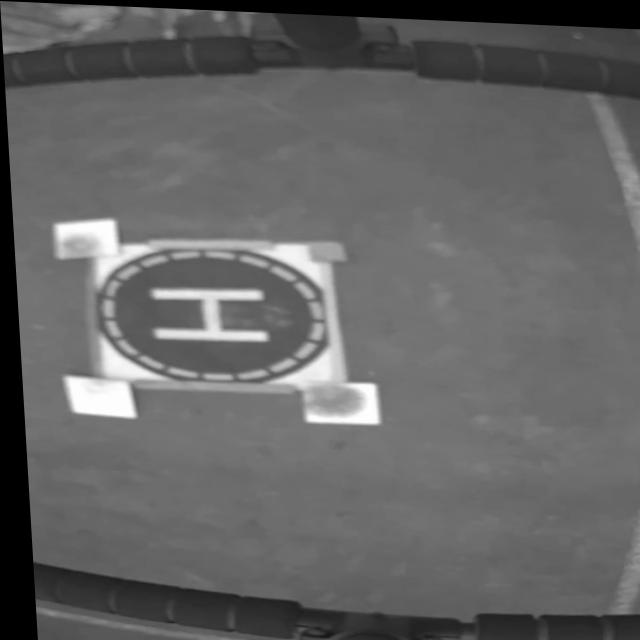Helipad: (146, 284, 267, 340)
